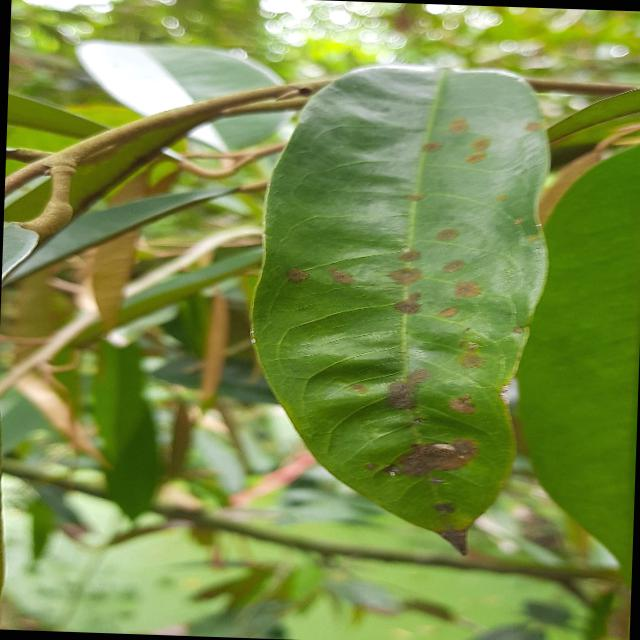Algal Leaf Spot: (235, 51, 564, 568)
